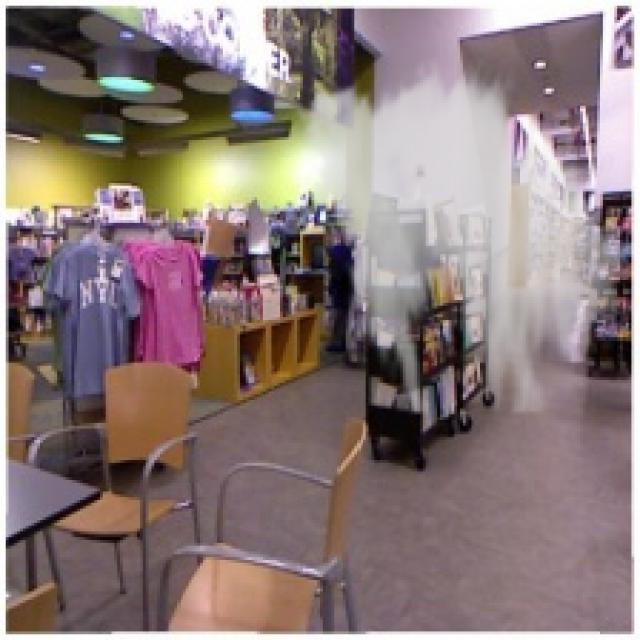Smoke: (286, 57, 638, 414)
